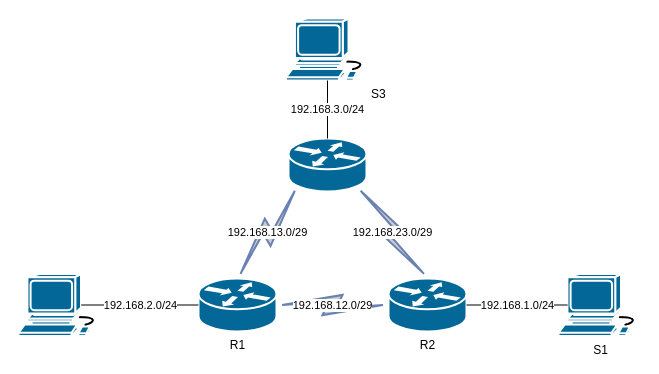
Image size: 659x374. Some labels were removed from this diagram. The centre of each missing label's shape, as x and y in pixels:
"R3" belongs at pixel 327 164.
"S2" belongs at pixel 59 304.
